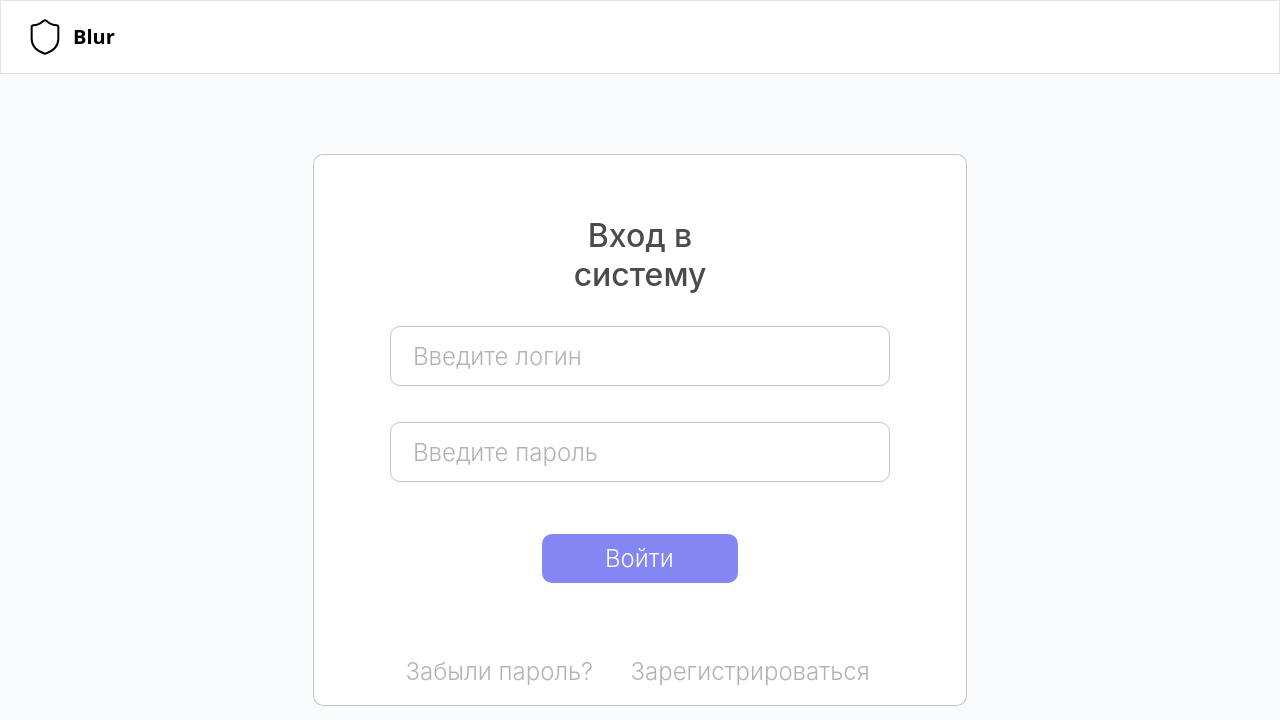
Scenario: Login component › shows validation error for empty fields
Type "user1" into the field with placeholder "Введите логин". click: point(640, 356)
box: [390,326,890,386]
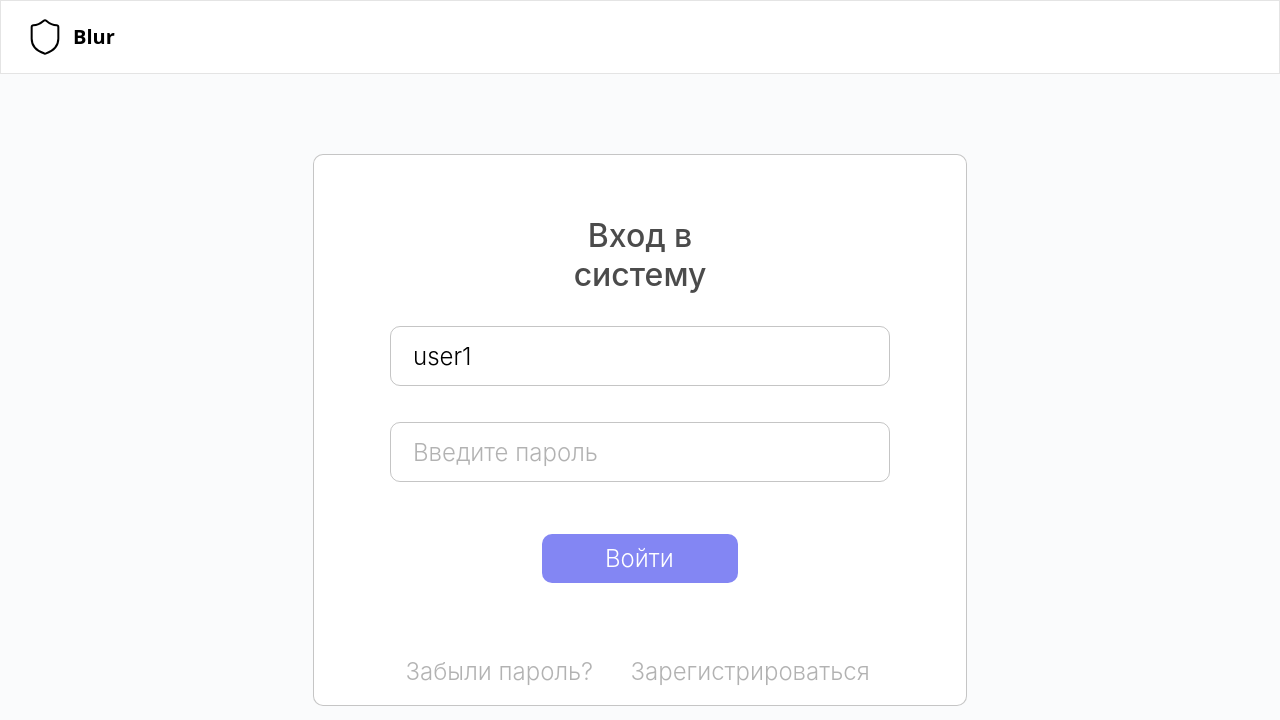
Submit the form "Войти", box [391,326,889,707]
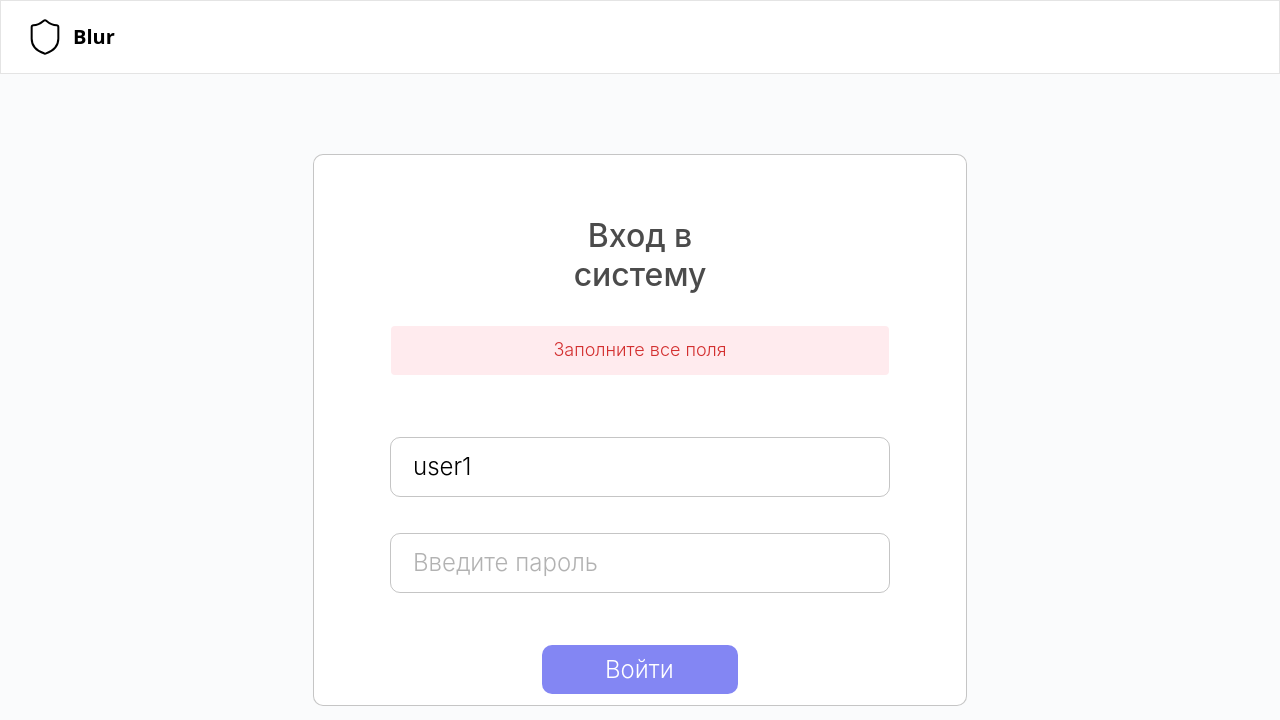
Expected: the text "Заполните все поля" is shown, [391,326,889,375]
